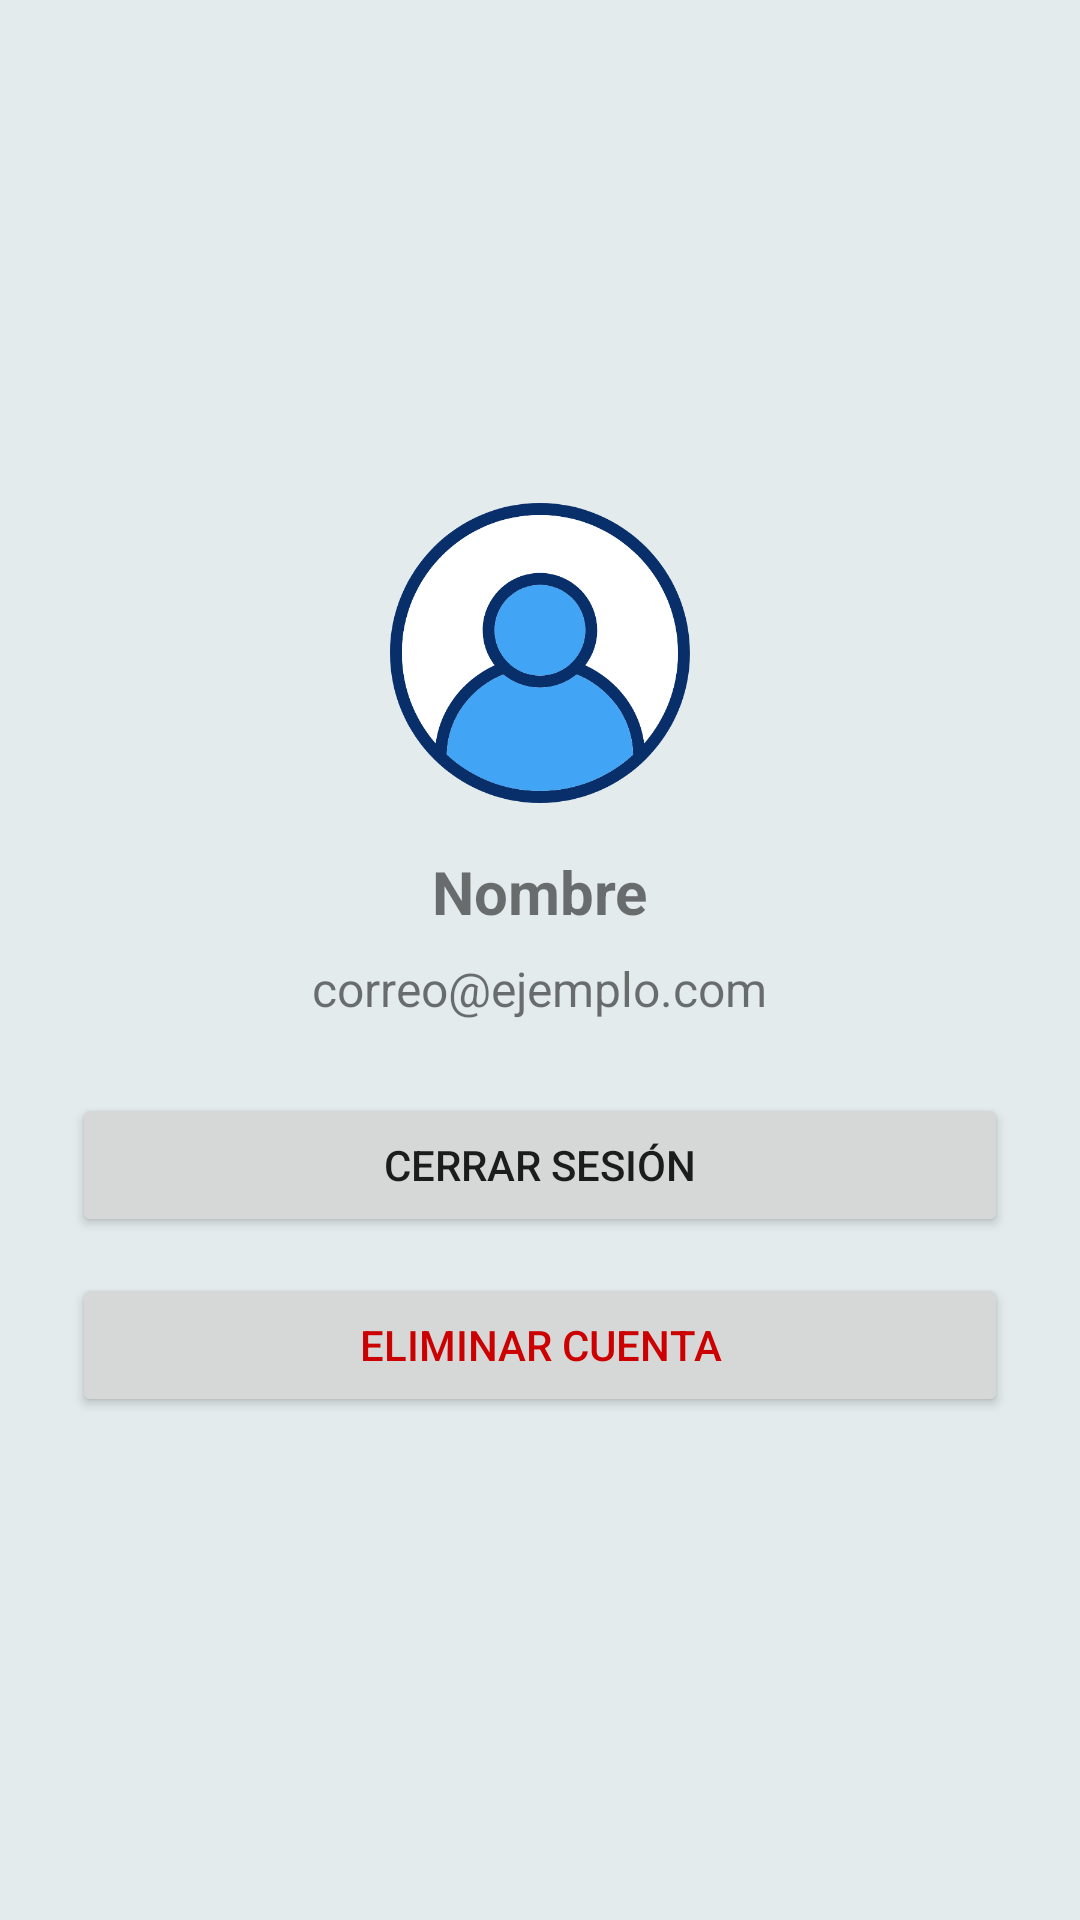

Point at icon controls on the screen. Image size 1080px×1920px, points as (x=x, y=y).
user: (x=540, y=653)
